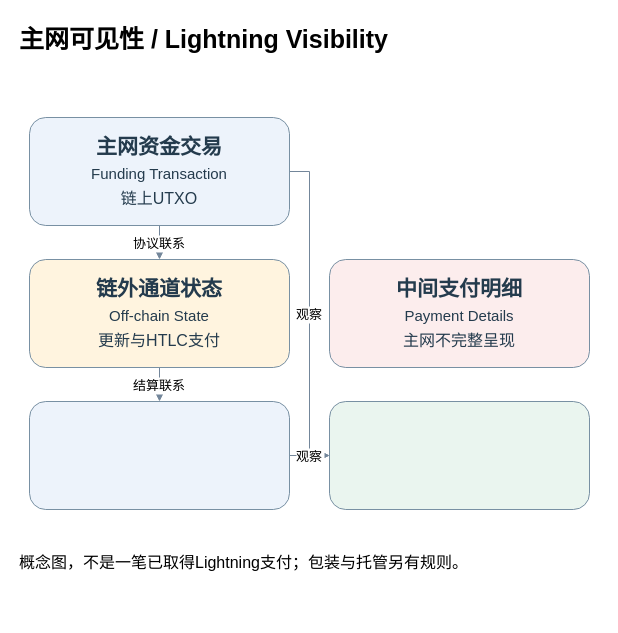
The diagram is 618 pixels wide and 633 high, and some of its shapes have lost their labels. The shapes that lost their labels are listed below. From the top down, each one's centre as x and y in pixels, then its label:
At (159,455): "主网结算交易 Channel Close 按实际关闭路径".
At (459,455): "可观察的主网记录 Mainnet Evidence 资金与部分结算结构".
